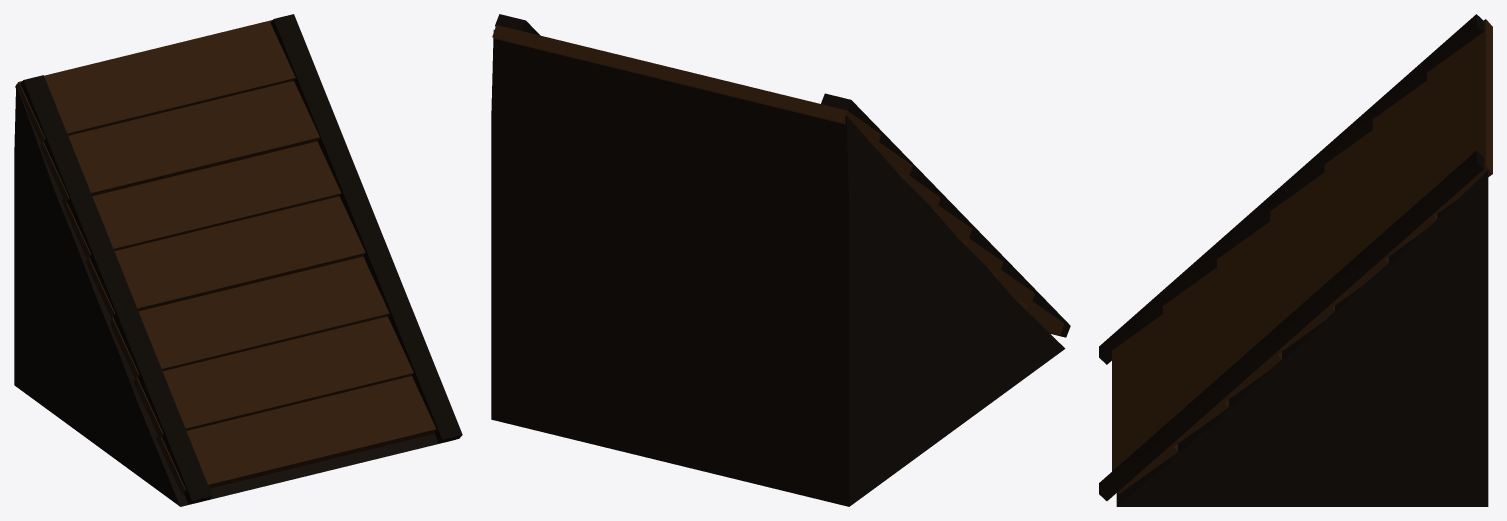
Rendered from SM_RoofWood1.fbx.
The picture shows the model from 3 angles, left to right: view 1: azimuth 30°, elevation 25°; view 2: azimuth 150°, elevation 25°; view 3: azimuth 270°, elevation 25°; orthographic projection. The views are drawn at different scales.
Visible parts, largest first — view 1: RoofWood1; view 2: RoofWood1; view 3: RoofWood1.
Part boxes in pixels (<box>): RoofWood1: <box>14,14,462,506</box>; RoofWood1: <box>491,14,1070,506</box>; RoofWood1: <box>1099,14,1492,506</box>.
Size of the model in its own units: 37.24 by 39.83 by 41.24.
